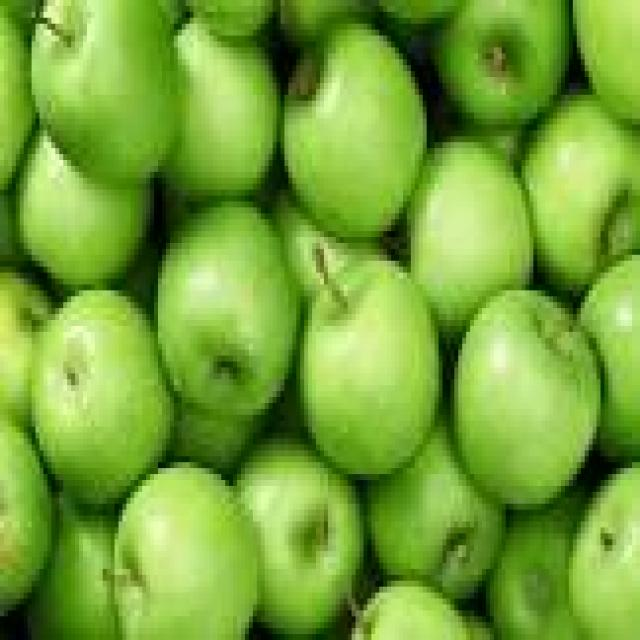apple: (455, 291, 600, 509), (281, 24, 426, 237), (159, 202, 300, 420), (301, 261, 442, 479), (32, 291, 173, 503), (32, 0, 177, 183), (407, 137, 533, 343), (115, 463, 260, 639), (368, 415, 505, 598), (238, 439, 363, 639), (522, 95, 639, 296), (162, 18, 280, 201), (16, 131, 150, 290), (435, 0, 572, 124), (486, 486, 584, 639), (28, 498, 118, 639), (569, 463, 639, 639), (273, 190, 383, 302), (581, 255, 639, 462), (0, 421, 55, 616), (573, 0, 639, 124), (0, 267, 51, 426), (352, 581, 470, 639), (170, 403, 264, 474), (0, 6, 35, 189), (281, 0, 371, 47), (119, 226, 165, 314), (186, 0, 276, 35), (459, 125, 529, 165), (380, 0, 462, 29), (0, 196, 27, 266), (0, 0, 43, 35), (159, 0, 185, 29), (467, 611, 493, 639)
